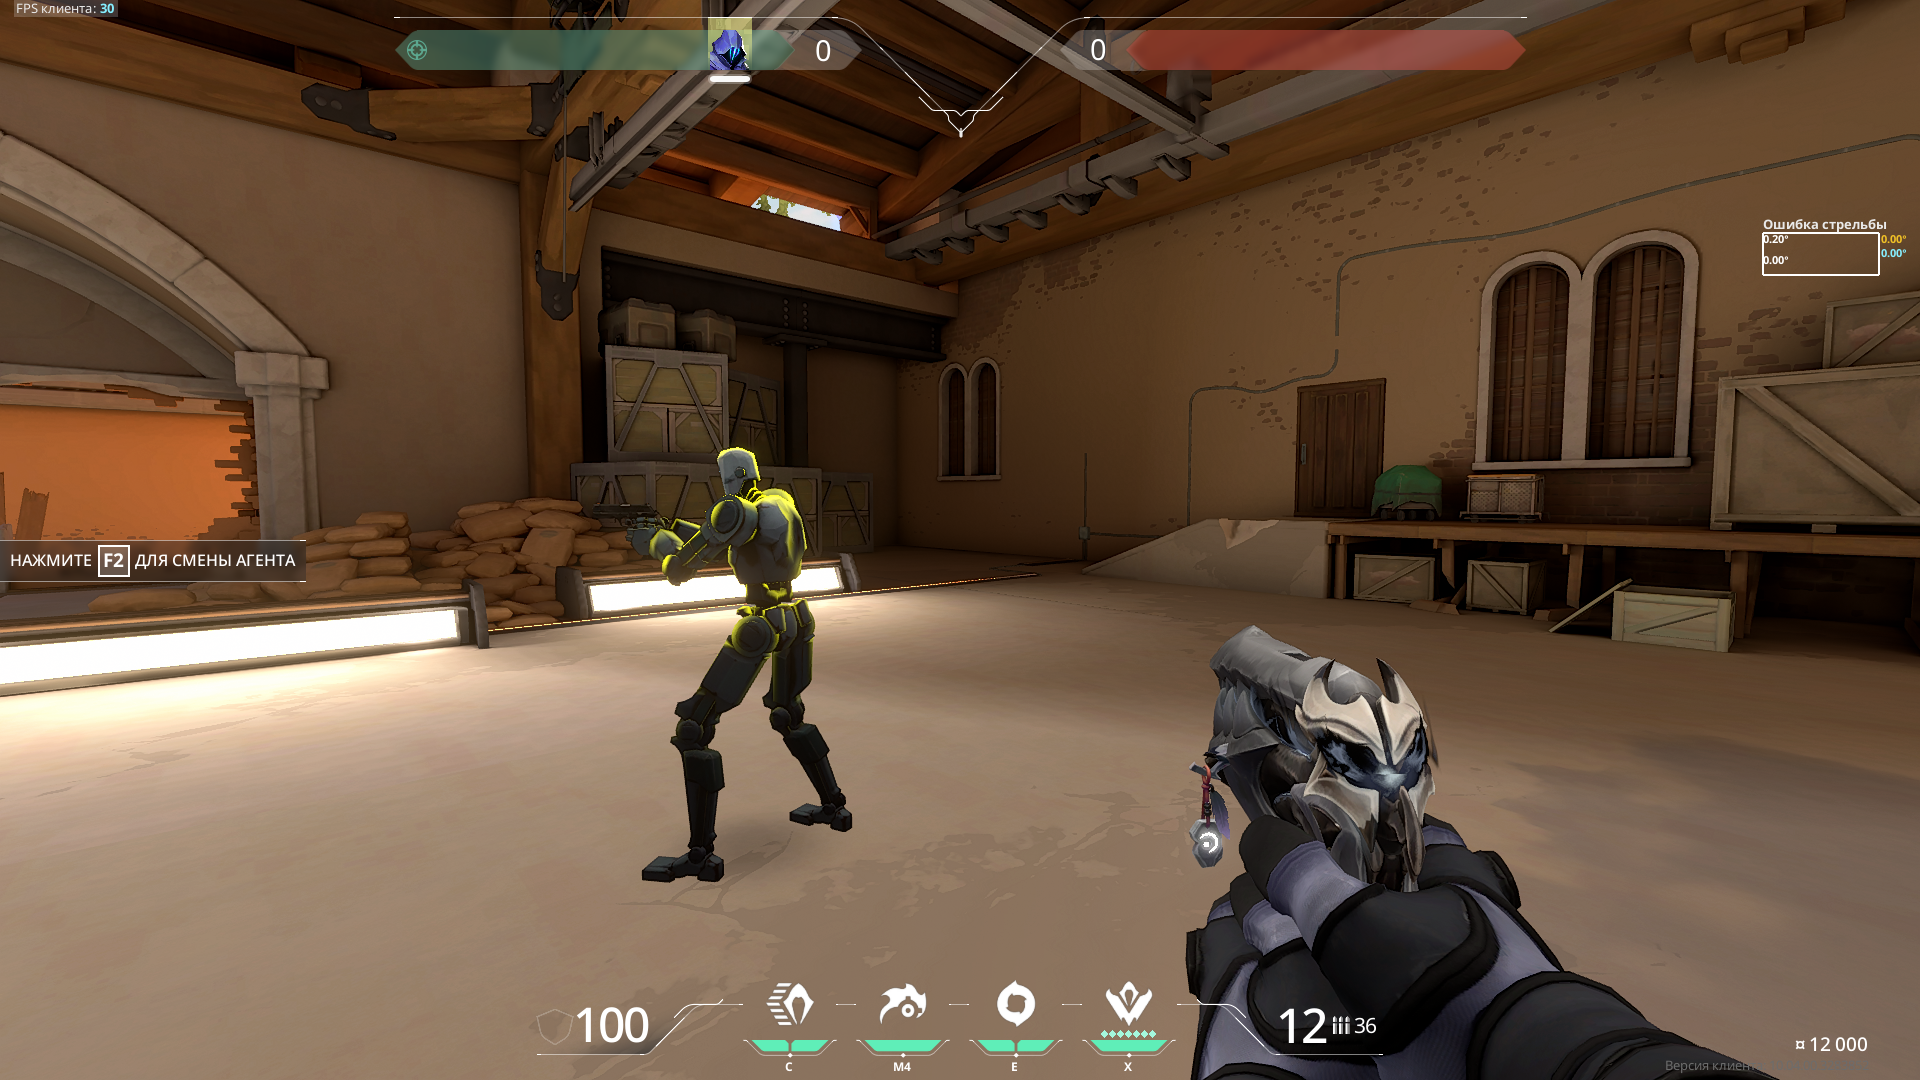head: (717, 447, 761, 498)
